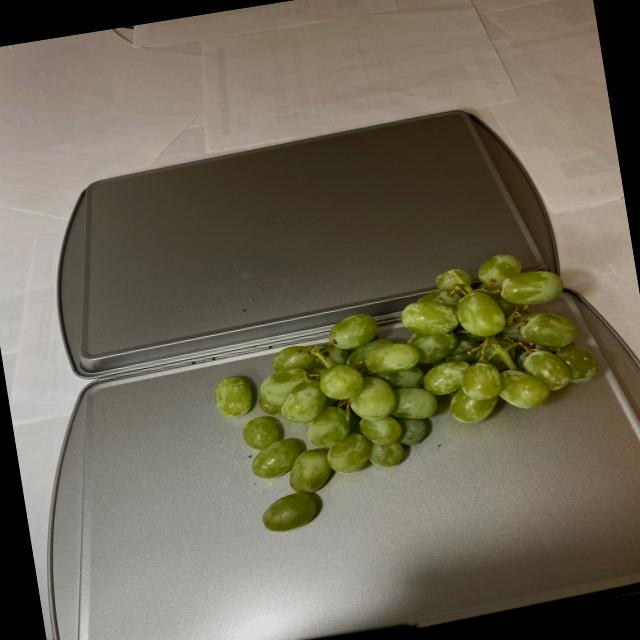grapes: (196, 240, 620, 536)
